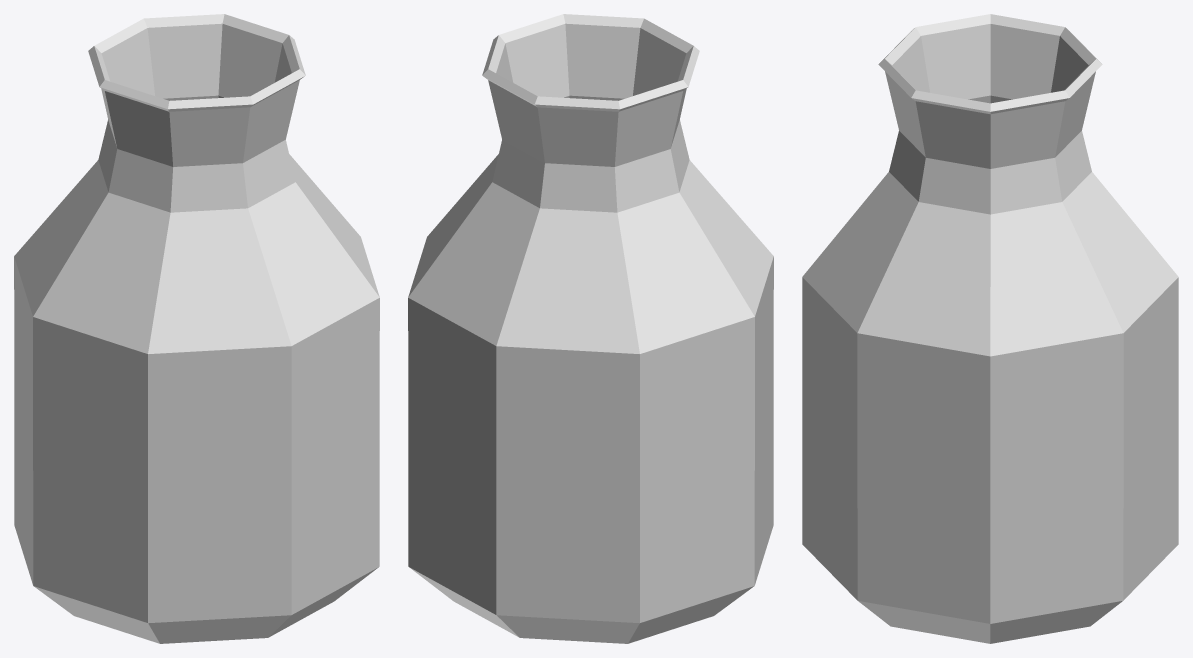
File: Potion B.fbx
The picture shows the model from 3 angles, left to right: view 1: azimuth 30°, elevation 25°; view 2: azimuth 150°, elevation 25°; view 3: azimuth 270°, elevation 25°; orthographic projection.
Visible parts, largest first — view 1: Circle.008; view 2: Circle.008; view 3: Circle.008.
Boxes of the visible parts, <box> form: Circle.008: <box>14,14,379,643</box>; Circle.008: <box>408,14,773,643</box>; Circle.008: <box>802,14,1178,643</box>.
Bounding box in the file's own units: 30.05 × 46.28 × 30.05.
Materials: 2 (2 with a texture image).
